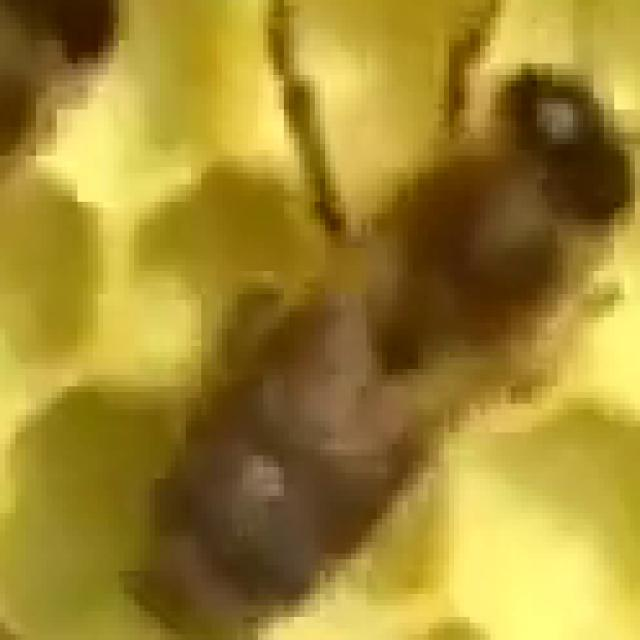honeybee: (156, 21, 611, 597)
